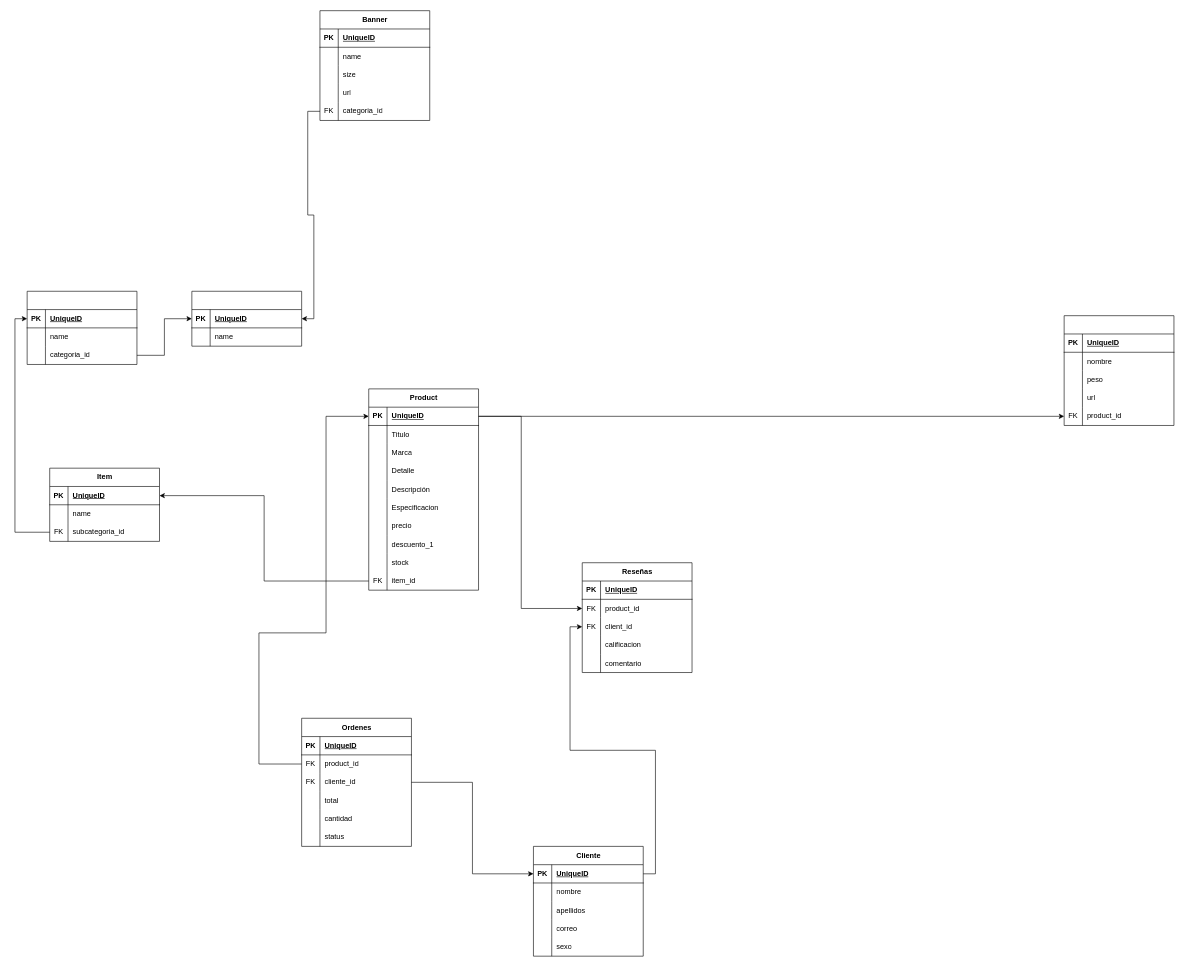
Image size: 1185x967. Some labels were removed from this diagram. Here are the shapes that lost their labels. From the top down, the box of each, then its label:
(27, 291, 137, 364): SubCategoria
(191, 291, 302, 346): Categoria
(1064, 315, 1174, 425): Imagenes
